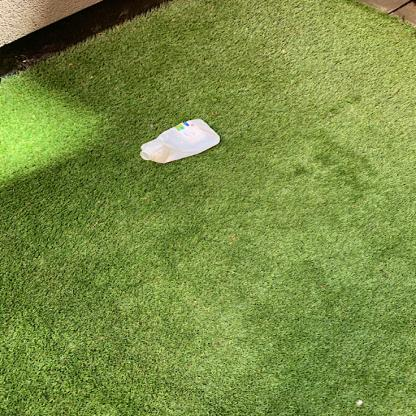trash: (137, 117, 225, 168)
